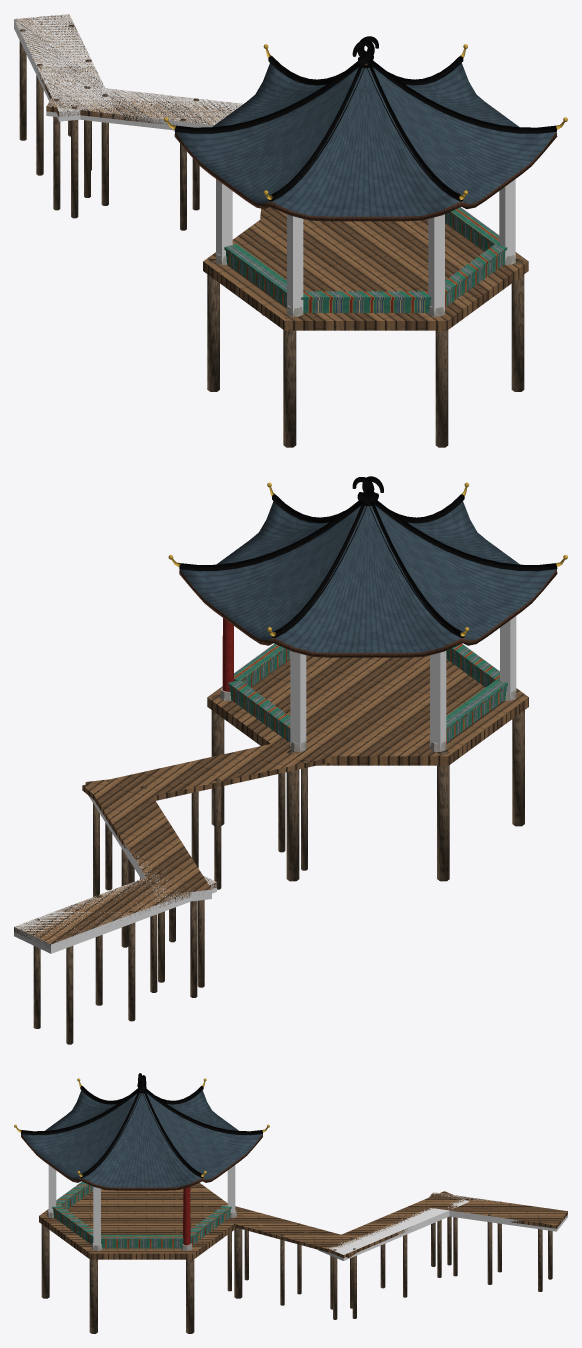
Rendered from lake_pavilion.glb.
The picture shows the model from 3 angles, top to bottom: view 1: azimuth 30°, elevation 25°; view 2: azimuth 150°, elevation 25°; view 3: azimuth 270°, elevation 25°; orthographic projection. The views are drawn at different scales.
Visible parts, largest first — view 1: PavRoof, PavilionDeck, Piles, Walkway, Beams, PavRoofRidges, Walk-convcolonly.002, Walk-convcolonly.001, Pillar-convcolonly.003, Pillar-convcolonly.004, Pillar-convcolonly.005, Pillar-convcolonly.002; view 2: PavRoof, PavilionDeck, Walkway, Piles, PavRoofRidges, Beams, Walk-convcolonly.002, Pillar-convcolonly.002, Pillar-convcolonly.001, Pillar-convcolonly.003, Pillars, Walk-convcolonly.001; view 3: PavRoof, PavilionDeck, Piles, Walkway, Beams, PavRoofRidges, Walk-convcolonly.001, Walk-convcolonly.002, Pillar-convcolonly.005, Pillars, Pillar-convcolonly.001, Pillar-convcolonly.004.
Boxes of the visible parts, x1,y1,x2,y2 form: PavRoof: (174, 62, 557, 221); PavilionDeck: (203, 209, 528, 330); Piles: (19, 25, 524, 447); Walkway: (14, 14, 274, 219); Beams: (224, 207, 507, 312); PavRoofRidges: (174, 36, 556, 201); Walk-convcolonly.002: (14, 14, 113, 121); Walk-convcolonly.001: (46, 83, 242, 130); Pillar-convcolonly.003: (287, 214, 303, 313); Pillar-convcolonly.004: (428, 214, 444, 314); Pillar-convcolonly.005: (499, 179, 515, 261); Pillar-convcolonly.002: (216, 179, 232, 262); PavRoof: (179, 501, 557, 657); PavilionDeck: (207, 655, 528, 765); Walkway: (14, 738, 330, 948); Piles: (33, 695, 524, 1044); PavRoofRidges: (179, 476, 557, 637); Beams: (228, 643, 507, 742); Walk-convcolonly.002: (14, 876, 216, 953); Pillar-convcolonly.002: (430, 651, 446, 748); Pillar-convcolonly.001: (290, 651, 306, 749); Pillar-convcolonly.003: (500, 616, 516, 697); Pillars: (222, 618, 233, 691); Walk-convcolonly.001: (88, 795, 211, 901); PavRoof: (21, 1090, 262, 1190); PavilionDeck: (39, 1183, 244, 1259); Piles: (41, 1195, 552, 1333); Walkway: (234, 1191, 567, 1258); Beams: (52, 1181, 231, 1248); PavRoofRidges: (21, 1073, 262, 1177); Walk-convcolonly.001: (318, 1198, 469, 1260); Walk-convcolonly.002: (430, 1192, 567, 1231); Pillar-convcolonly.005: (93, 1186, 100, 1248); Pillars: (183, 1187, 190, 1245); Pillar-convcolonly.001: (227, 1165, 235, 1214); Pillar-convcolonly.004: (48, 1165, 56, 1214).
Size of what is drawn, in the model's own units: 9.91 by 10.95 by 24.72.
9 materials, 9 textured.
